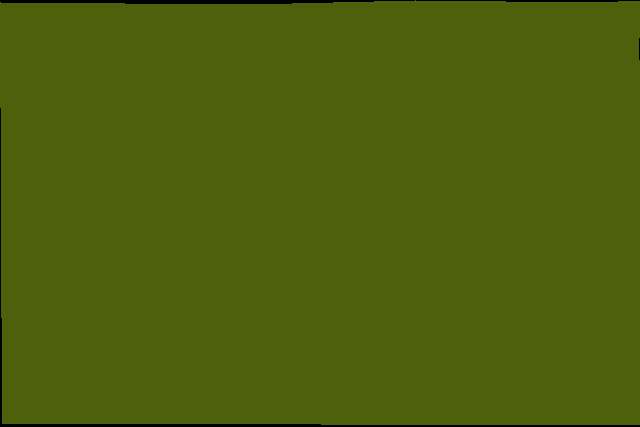Train: (0, 0, 640, 425)
